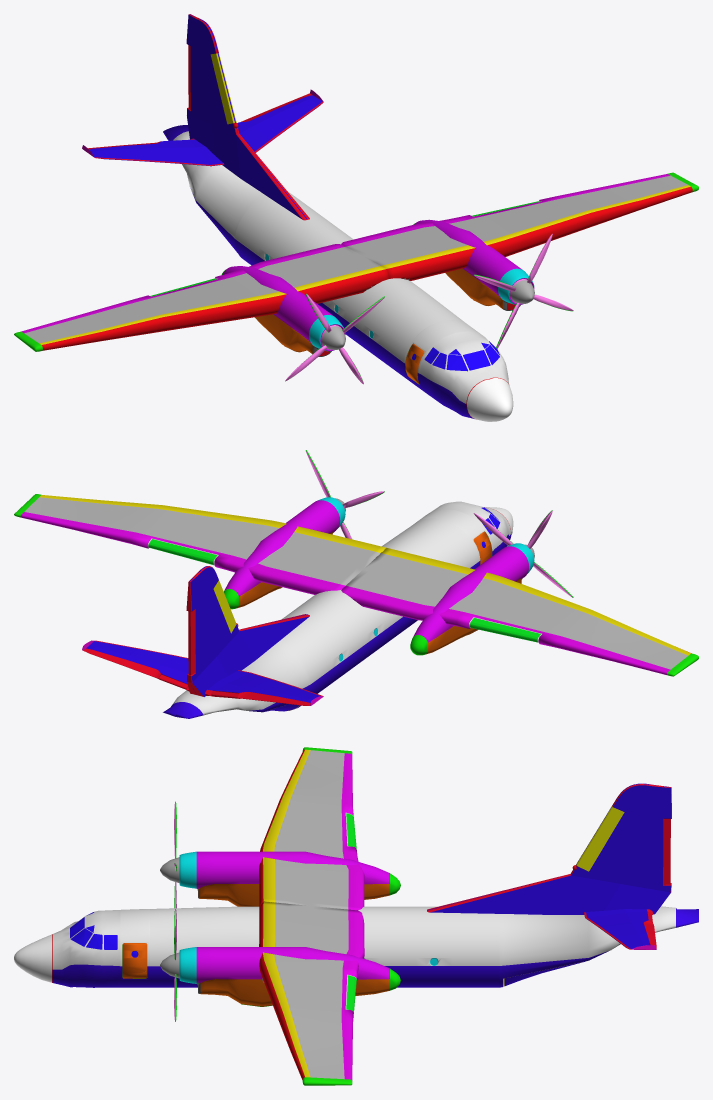
File: body3 Cockpit - Mirror Test.fbx
3 renders of one model, top to bottom at view 1: azimuth 30°, elevation 25°; view 2: azimuth 150°, elevation 25°; view 3: azimuth 270°, elevation 25°, orthographic. The views are drawn at different scales.
Parts seen in each view (by area): view 1: Wing, Body, CockpitOutside, Rudder, Engine, SideRudder, BodyBack, Props, EngineFront; view 2: Wing, Body, Engine, Rudder, SideRudder, BodyBack, CockpitOutside, Props; view 3: Wing, Body, Rudder, Engine, CockpitOutside, BodyBack, SideRudder, CockpitDoor, EngineFront, Props.
Boxes of the visible parts, x1,y1,x2,y2 form: Wing: [14, 172, 698, 351]; Body: [234, 195, 465, 381]; CockpitOutside: [404, 320, 513, 421]; Rudder: [186, 14, 309, 220]; Engine: [221, 219, 534, 356]; SideRudder: [82, 89, 323, 166]; BodyBack: [163, 125, 295, 256]; Props: [285, 234, 573, 384]; EngineFront: [321, 279, 534, 349]; Wing: [14, 494, 698, 676]; Body: [279, 518, 479, 708]; Engine: [224, 497, 534, 655]; Rudder: [186, 566, 309, 696]; SideRudder: [82, 640, 323, 705]; BodyBack: [163, 642, 310, 718]; CockpitOutside: [417, 501, 513, 565]; Props: [305, 450, 573, 597]; Wing: [259, 747, 364, 1085]; Body: [150, 906, 499, 987]; Rudder: [427, 783, 671, 914]; Engine: [179, 851, 400, 1006]; CockpitOutside: [14, 909, 149, 987]; BodyBack: [499, 906, 698, 987]; SideRudder: [584, 909, 656, 949]; CockpitDoor: [122, 943, 147, 978]; EngineFront: [160, 857, 179, 978]; Props: [174, 801, 176, 1021].
Size of the model in its own units: 2899 by 798 by 2506.
